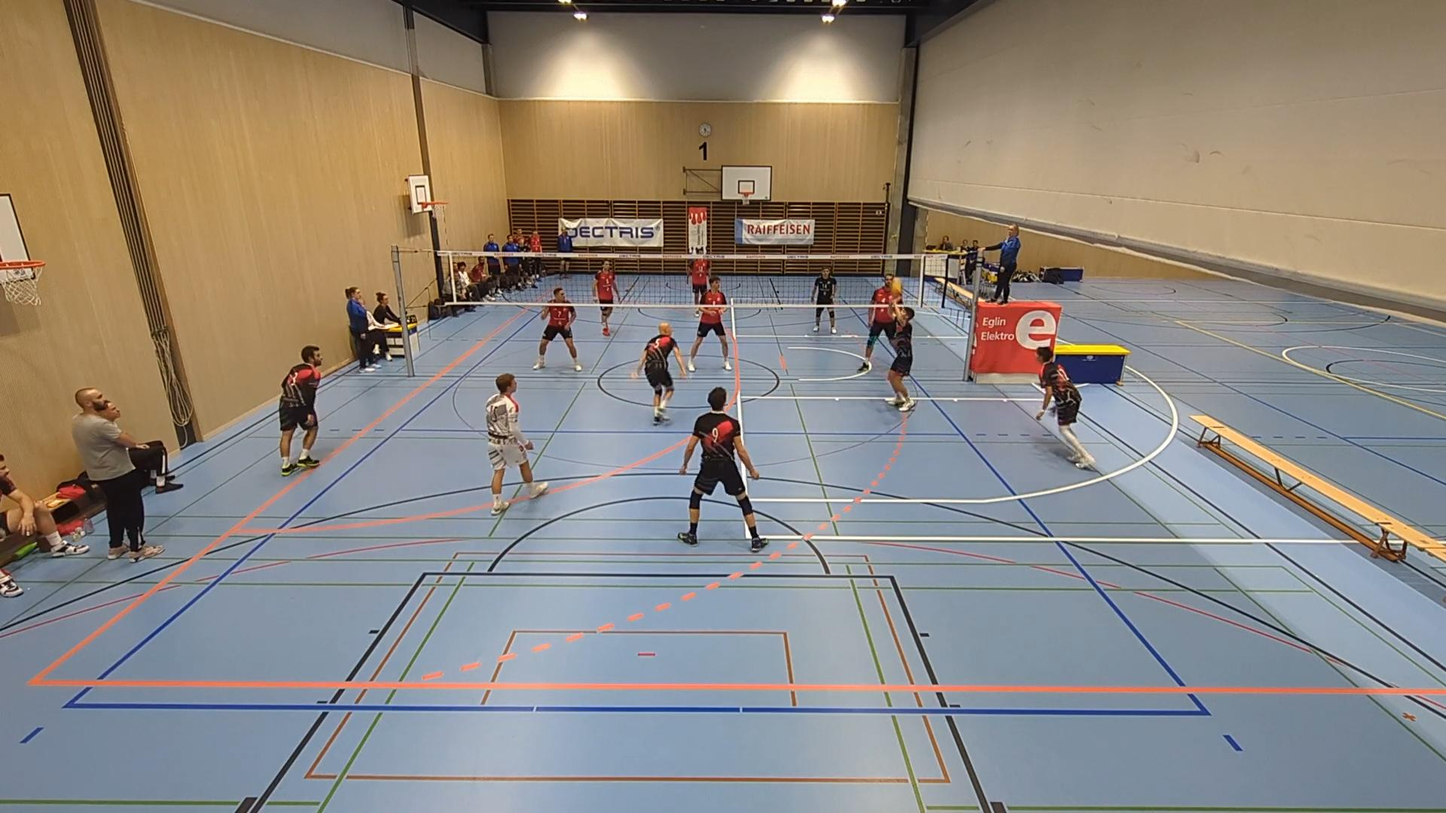Player: (678, 387, 767, 552), (485, 373, 548, 515), (1036, 346, 1095, 468), (279, 345, 322, 476), (631, 321, 685, 423), (687, 276, 732, 371), (533, 287, 582, 372), (859, 277, 901, 371), (593, 260, 617, 336), (813, 268, 837, 333), (688, 258, 709, 305)
Set: (869, 294, 919, 416)
ball: (887, 276, 906, 293)
